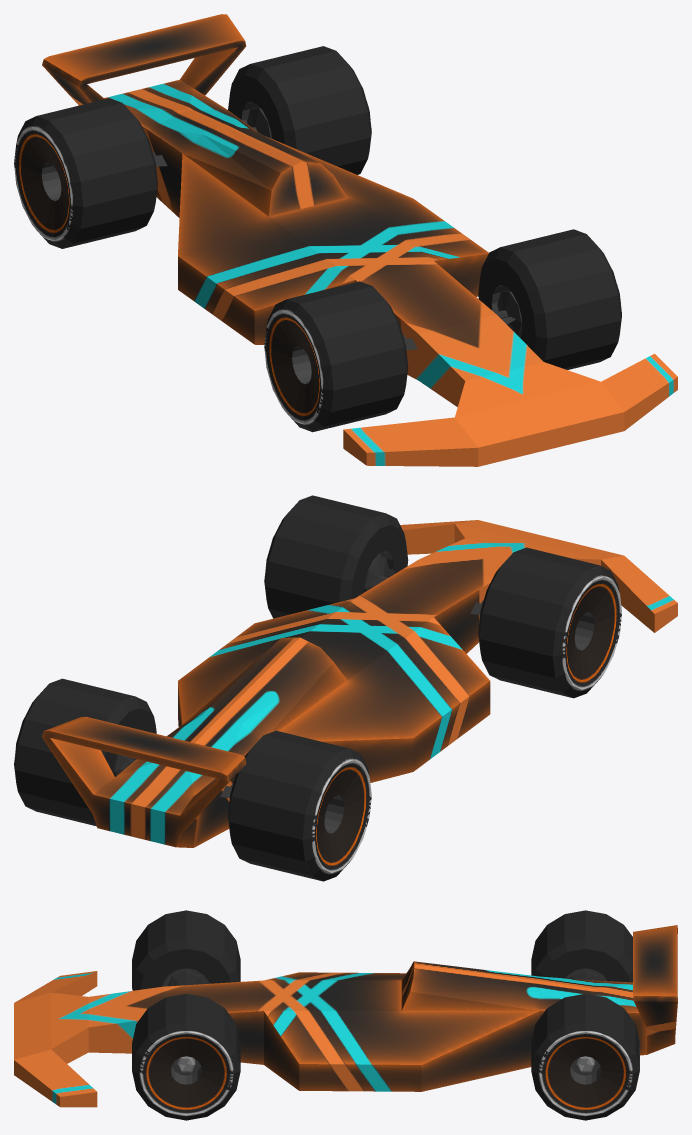
File: kart_body_1.fbx
The picture shows the model from 3 angles, top to bottom: view 1: azimuth 30°, elevation 25°; view 2: azimuth 150°, elevation 25°; view 3: azimuth 270°, elevation 25°; orthographic projection. The views are drawn at different scales.
Visible parts, largest first — view 1: Car Body, Front Left, Back Right, Front Right, Back Left, Suspension; view 2: Car Body, Front Left, Back Right, Front Right, Back Left, Suspension; view 3: Car Body, Back Left, Front Right, Front Left, Back Right, Suspension.
Boxes of the visible parts, x1,y1,x2,y2 form: Car Body: (42,14,677,466); Front Left: (264,281,408,432); Back Right: (14,98,157,248); Front Right: (478,229,621,369); Back Left: (228,46,371,174); Suspension: (153,108,522,349); Car Body: (42,520,677,847); Front Left: (478,547,621,698); Back Right: (228,730,371,881); Front Right: (264,495,408,618); Back Left: (14,678,156,826); Suspension: (114,557,483,797); Car Body: (14,925,677,1107); Back Left: (531,993,639,1120); Front Right: (132,993,240,1120); Front Left: (132,910,240,990); Back Right: (531,910,632,982); Suspension: (168,971,600,986).
Size of the model in its own units: 793 by 321 by 1837.
6 materials, 6 textured.
